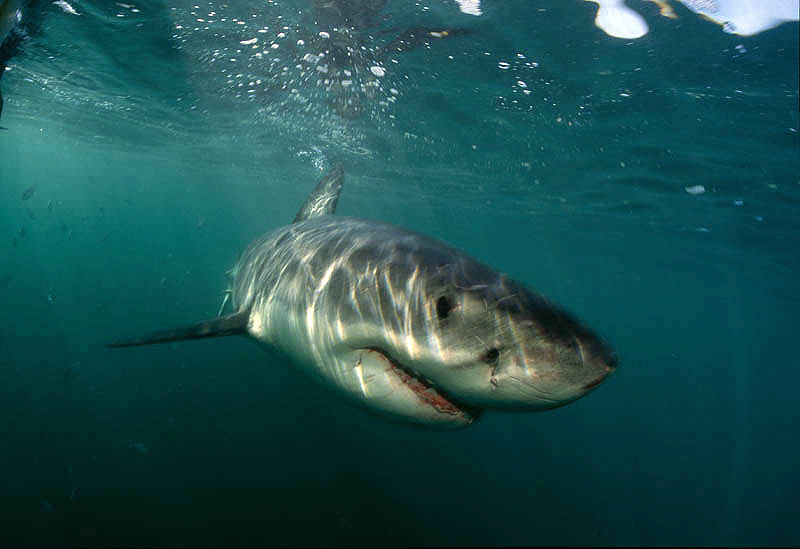Carcharodon_carcharias: (129, 157, 643, 449)
